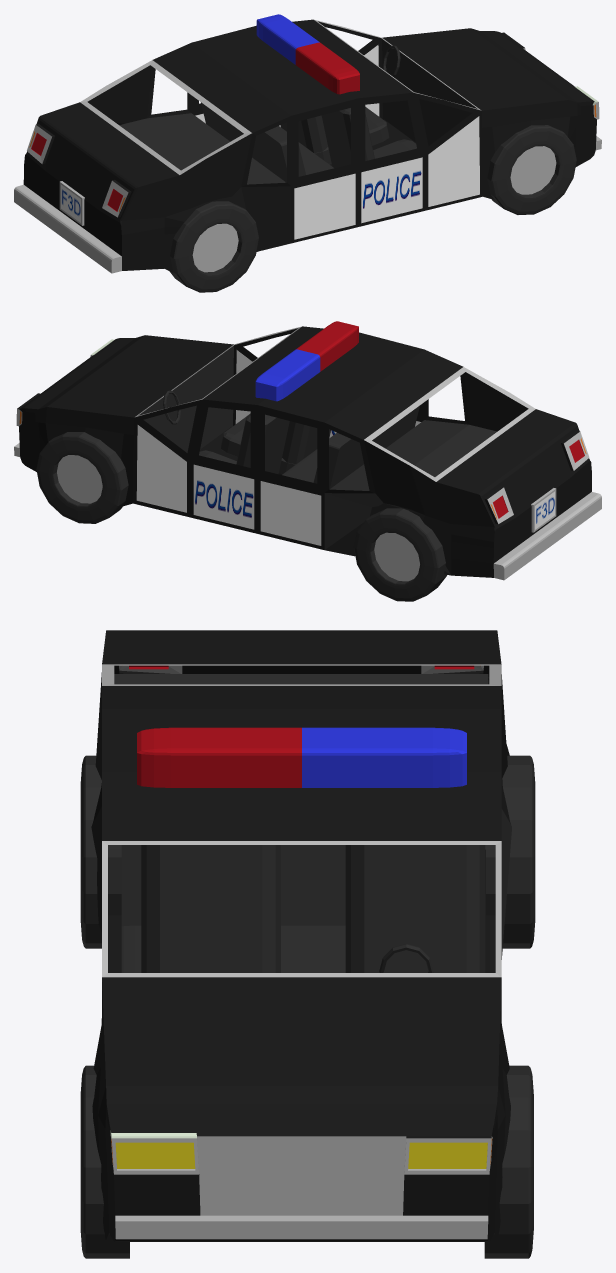
The model's file is cop_car.glb.
3 renders of one model, top to bottom at view 1: azimuth 30°, elevation 25°; view 2: azimuth 150°, elevation 25°; view 3: azimuth 270°, elevation 25°, orthographic. The views are drawn at different scales.
Visible parts, largest first — view 1: Cube.001; view 2: Cube.001; view 3: Cube.001.
Boxes of the visible parts, x1,y1,x2,y2 form: Cube.001: (14,14,601,292); Cube.001: (14,321,601,601); Cube.001: (80,630,535,1258).
Bounding box in the file's own units: 4.5 × 1.5 × 1.8.
10 materials, 2 textured.
